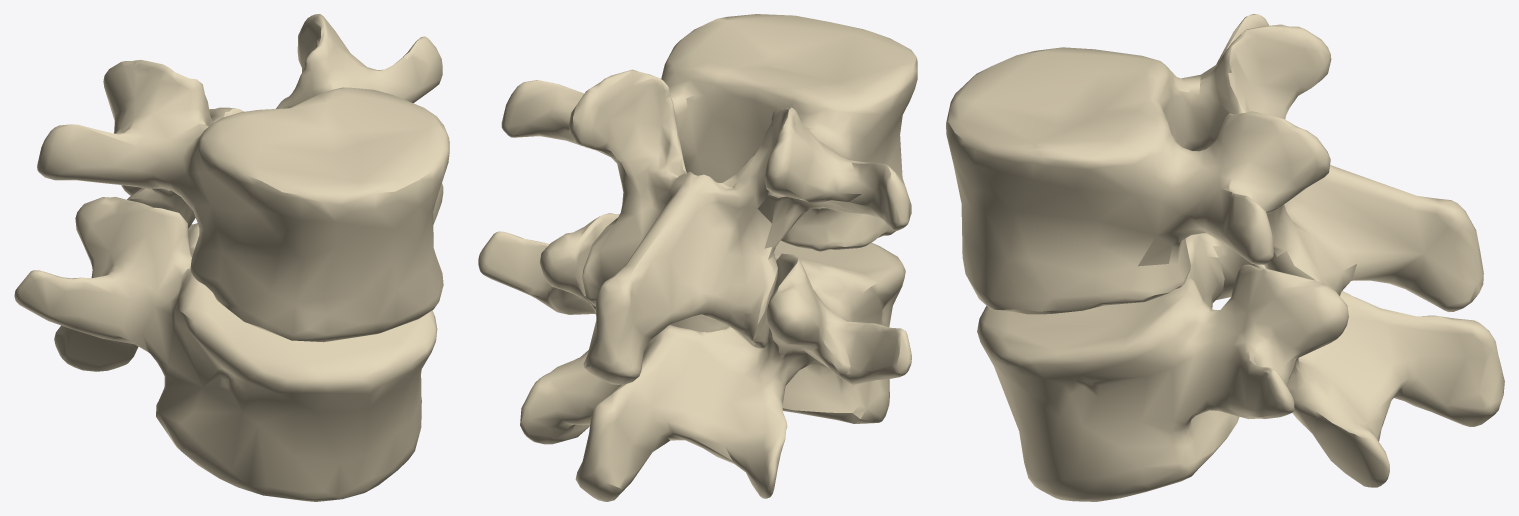
Rendered from vertebra.glb.
3 renders of one model, left to right at view 1: azimuth 30°, elevation 25°; view 2: azimuth 150°, elevation 25°; view 3: azimuth 270°, elevation 25°, orthographic. The views are drawn at different scales.
Visible parts, largest first — view 1: third lumbar vertebra, fourth lumbar vertebra; view 2: third lumbar vertebra, fourth lumbar vertebra; view 3: third lumbar vertebra, fourth lumbar vertebra.
Part boxes in pixels (x1,y1,x2,y2): third lumbar vertebra: (37, 14, 449, 342); fourth lumbar vertebra: (14, 183, 443, 501); third lumbar vertebra: (501, 14, 917, 384); fourth lumbar vertebra: (478, 213, 911, 501); third lumbar vertebra: (946, 14, 1483, 314); fourth lumbar vertebra: (977, 232, 1504, 501).
Size of the model in its own units: 0.0842 by 0.0711 by 0.0892.
